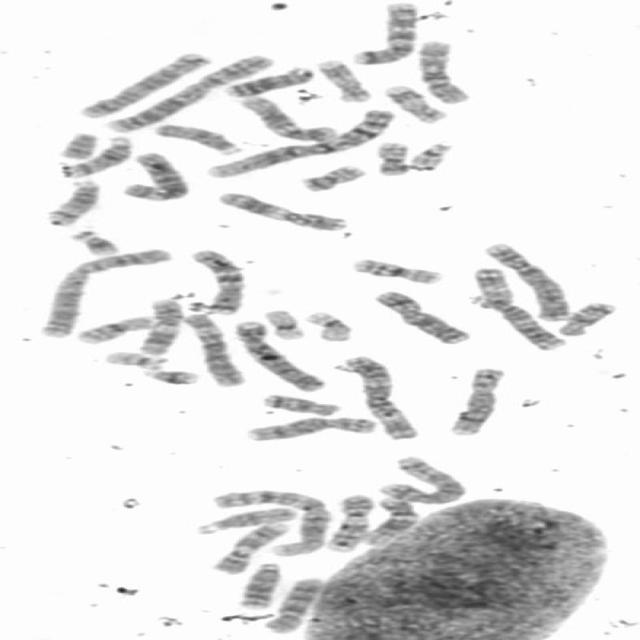A1: (200, 106, 399, 179), (205, 486, 334, 556)
A2: (96, 50, 277, 134), (34, 245, 174, 338)
A3: (466, 264, 568, 352), (340, 353, 421, 441)
B4: (228, 318, 330, 392), (481, 240, 573, 322)
B5: (72, 48, 215, 118), (370, 453, 470, 506)
C10: (411, 37, 474, 105), (260, 574, 328, 635)
C11: (210, 189, 353, 232), (133, 297, 185, 355)
C12: (235, 92, 341, 142), (356, 495, 420, 546)
C6: (178, 312, 248, 386), (116, 148, 192, 202)
C7: (344, 0, 422, 66), (185, 246, 248, 316)
C8: (443, 364, 512, 436), (239, 413, 378, 442)
C9: (204, 517, 292, 575), (322, 491, 376, 552)
D13: (220, 64, 316, 98), (233, 560, 286, 610)
D14: (55, 133, 133, 179), (40, 176, 104, 227)
D15: (149, 120, 248, 156), (191, 504, 297, 535)
E16: (344, 254, 445, 286), (68, 312, 159, 346)
E17: (378, 81, 450, 124), (311, 55, 373, 103)
E18: (551, 299, 620, 336), (256, 391, 342, 417)
F19: (300, 308, 356, 342), (260, 306, 308, 341)
F20: (294, 161, 370, 193), (370, 140, 413, 177)
G21: (66, 228, 124, 256), (136, 366, 202, 386)
G22: (404, 140, 455, 171), (99, 348, 169, 370)
X: (367, 288, 474, 346)
Y: (56, 129, 99, 160)
